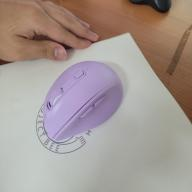mouse: (41, 60, 125, 143)
